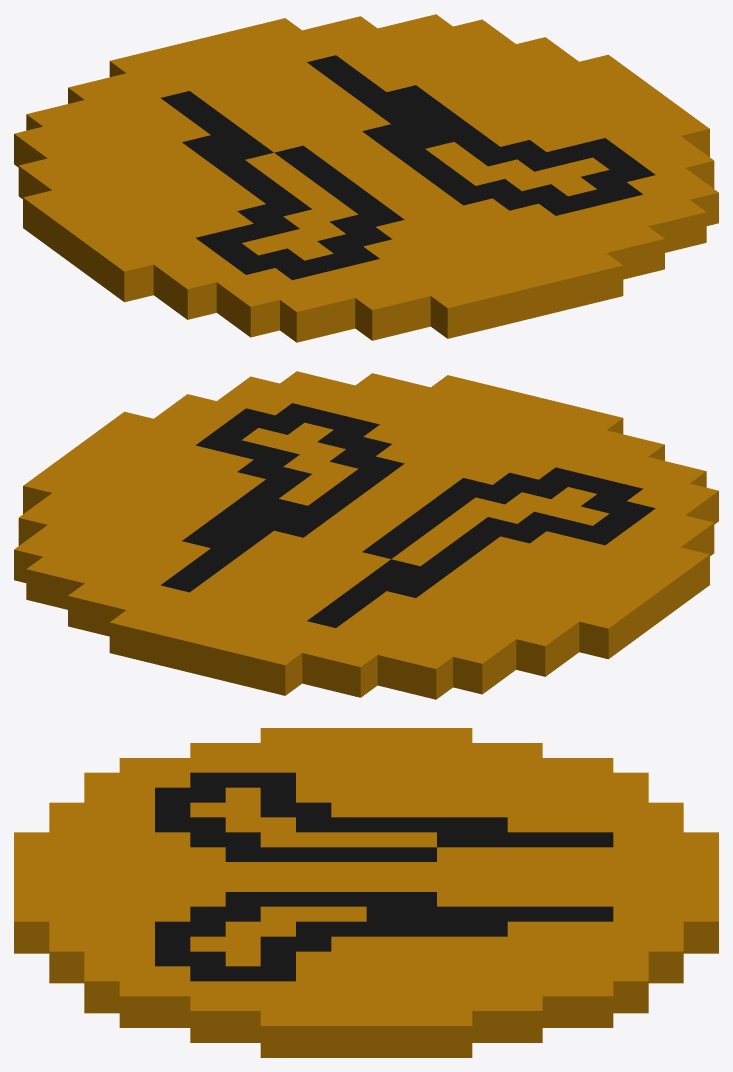
File: godSpace.obj
The picture shows the model from 3 angles, top to bottom: view 1: azimuth 30°, elevation 25°; view 2: azimuth 150°, elevation 25°; view 3: azimuth 270°, elevation 25°; orthographic projection. The views are drawn at different scales.
Bounding box in the file's own units: 2 × 0.1 × 2.
1 material, 1 textured.
